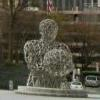Statue: (20, 16, 78, 92)
